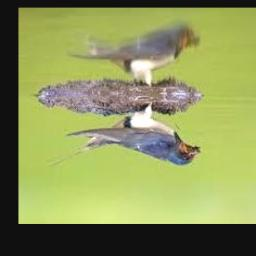Swallow: (47, 102, 200, 166)
